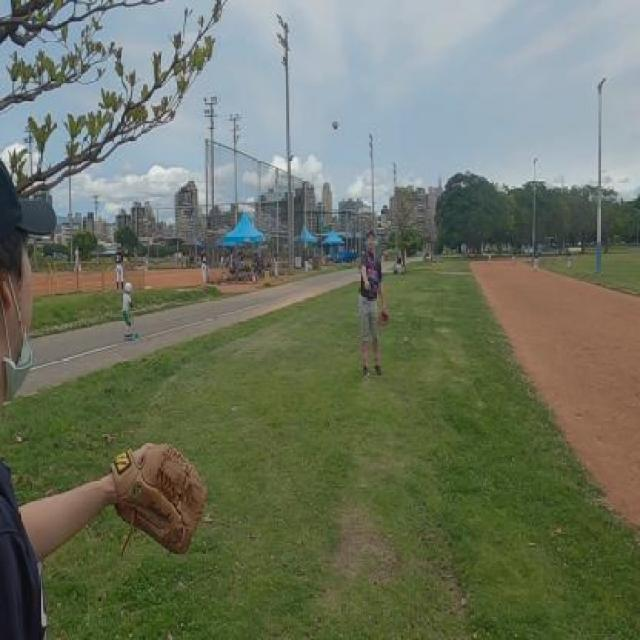baseball: (332, 119, 338, 130)
